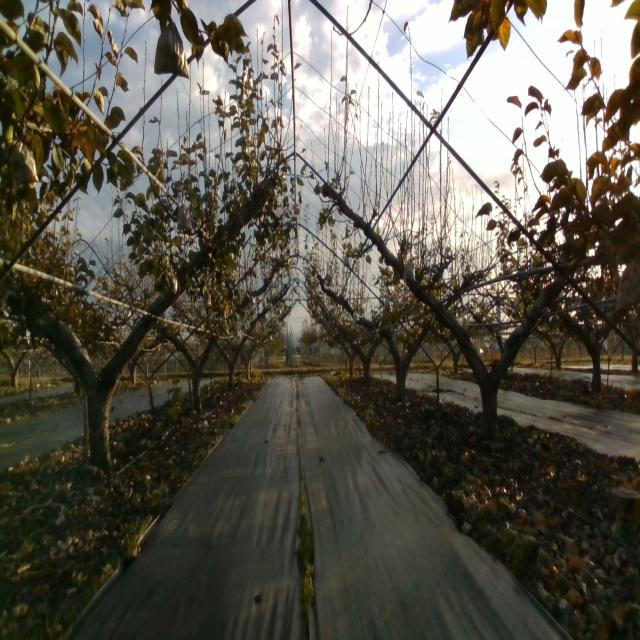pearbags: (154, 14, 190, 79), (614, 253, 640, 313), (6, 140, 39, 184), (176, 198, 193, 230), (404, 260, 416, 282)
